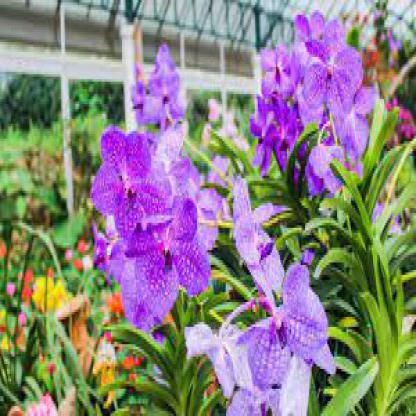ANGGREK: (86, 18, 394, 402)
